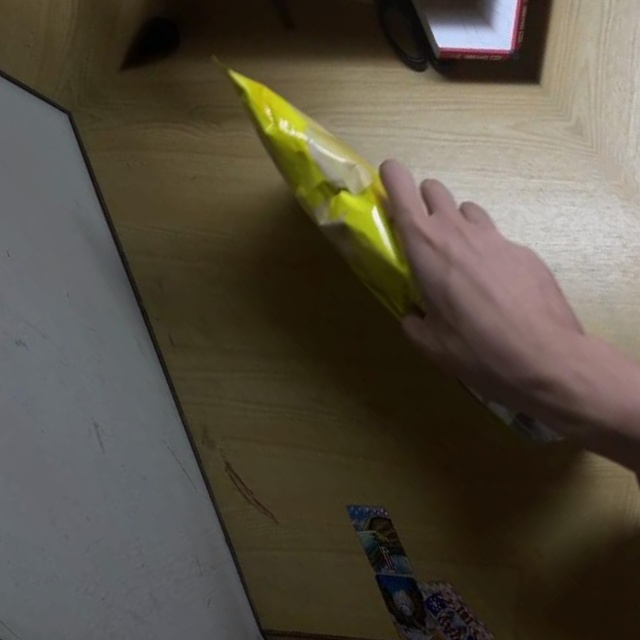Lay-s-original: (188, 17, 603, 484)
